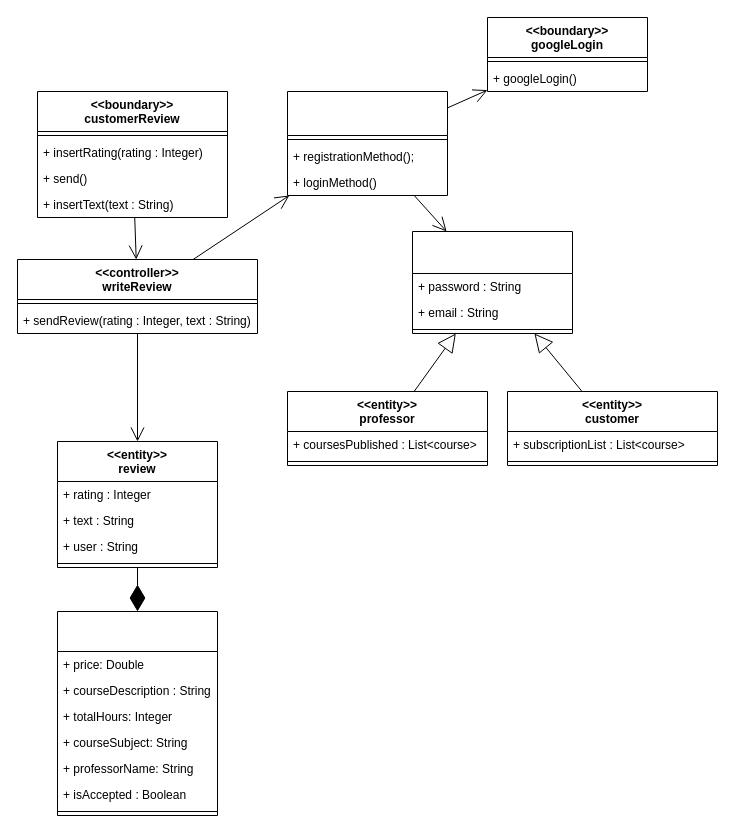
The diagram is 735 pixels wide and 833 high, and some of its shapes have lost their labels. Each missing label, with the box of its shape:
<<controller>> login: (286, 90, 448, 196)
<<entity>> course: (56, 610, 218, 816)
<<entity>> User: (412, 230, 572, 334)
